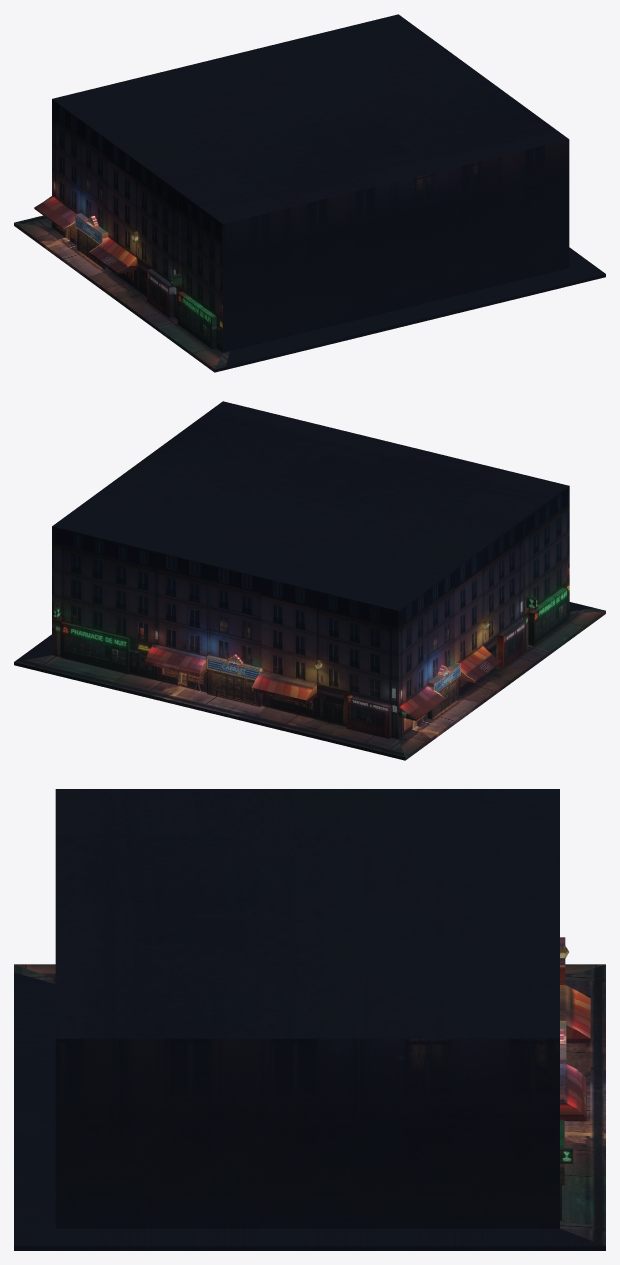
The model's file is BuildingGauche.fbx.
3 renders of one model, top to bottom at view 1: azimuth 30°, elevation 25°; view 2: azimuth 150°, elevation 25°; view 3: azimuth 270°, elevation 25°, orthographic. The views are drawn at different scales.
Visible parts, largest first — view 1: Building gauche; view 2: Building gauche; view 3: Building gauche.
Part boxes in pixels (x1=…): Building gauche: x1=14, y1=14, x2=605, y2=372; Building gauche: x1=14, y1=401, x2=605, y2=760; Building gauche: x1=14, y1=789, x2=605, y2=1250.
Bounding box in the file's own units: 44.83 × 39.8 × 14.55.
1 material, 1 textured.
